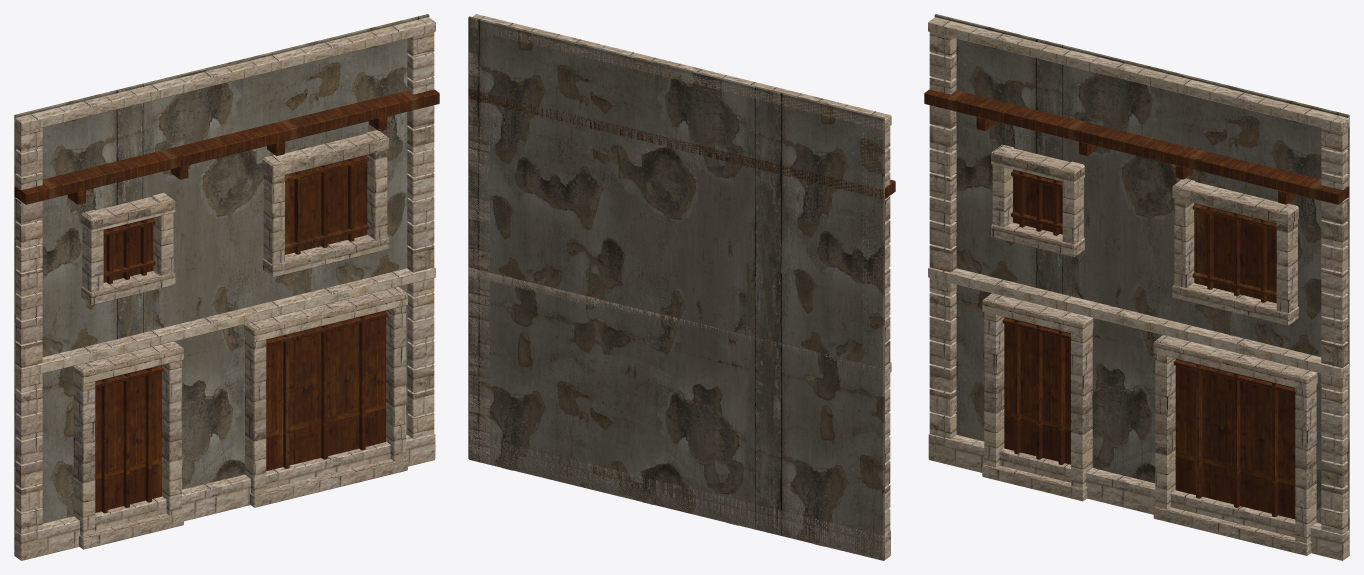
The model's file is rug-west.glb.
The picture shows the model from 3 angles, left to right: view 1: azimuth 30°, elevation 25°; view 2: azimuth 150°, elevation 25°; view 3: azimuth 330°, elevation 25°; orthographic projection.
Parts seen in each view (by area): view 1: Weathered wall face; view 2: Weathered wall face; view 3: Weathered wall face.
Part boxes in pixels (x1,y1,x2,y2): Weathered wall face: (14, 14, 439, 560); Weathered wall face: (468, 14, 895, 560); Weathered wall face: (924, 14, 1349, 560).
Bounding box in the file's own units: 6.88 × 7.01 × 0.34.
3 materials, 3 textured.
